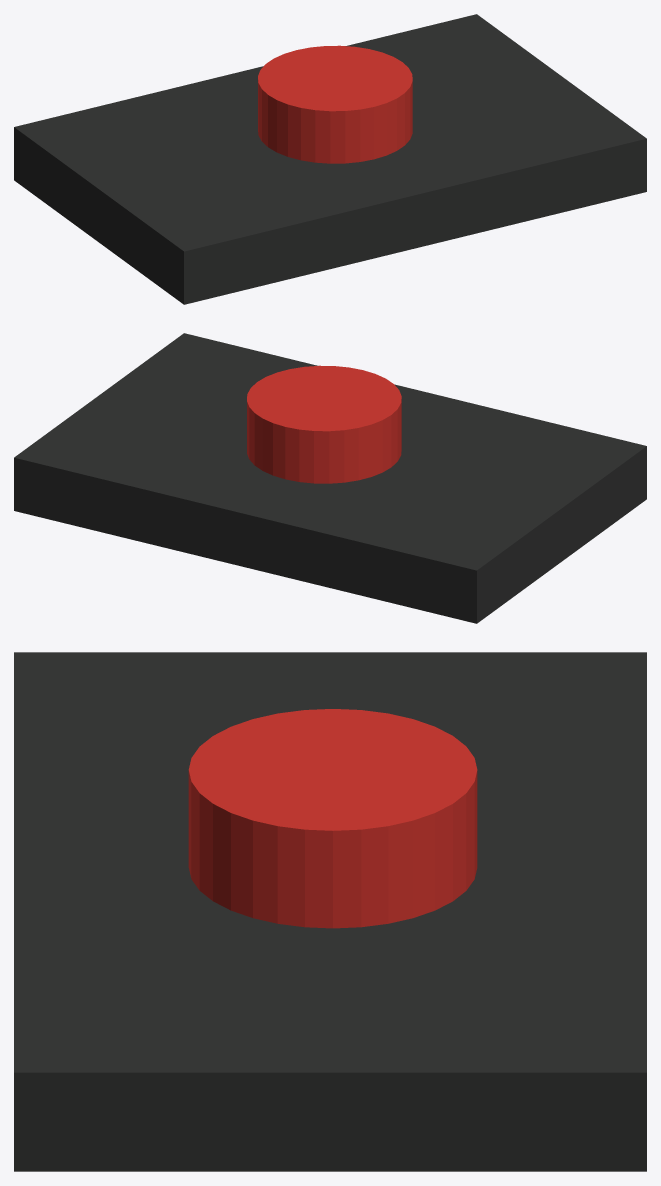
File: LightSwithc.fbx
The picture shows the model from 3 angles, top to bottom: view 1: azimuth 30°, elevation 25°; view 2: azimuth 150°, elevation 25°; view 3: azimuth 270°, elevation 25°; orthographic projection. The views are drawn at different scales.
Parts seen in each view (by area): view 1: Cube; view 2: Cube; view 3: Cube.
Part boxes in pixels (x1,y1,x2,y2): Cube: [14, 14, 646, 304]; Cube: [14, 333, 646, 623]; Cube: [14, 652, 646, 1171].
Bounding box in the file's own units: 314 × 91.22 × 200.
